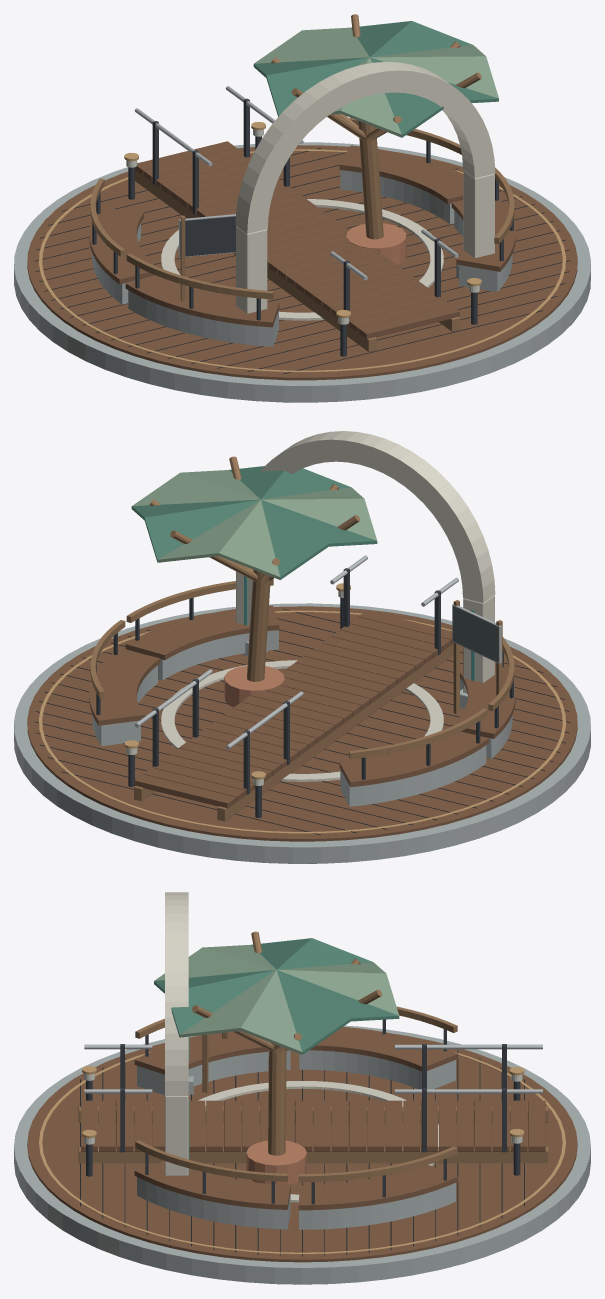
File: fullfilm_v2_scene_block.glb
3 renders of one model, top to bottom at view 1: azimuth 30°, elevation 25°; view 2: azimuth 150°, elevation 25°; view 3: azimuth 270°, elevation 25°, orthographic.
Parts seen in each view (by area): view 1: Plaza_UpperDeck, Bridge_26DeckBoards, Plaza_LowerStoneDisk, Gateway_ArchRib, Plaza_DeckPlankJoints, Bench_02_SeatSlats, Bench_00_SeatSlats, Bench_02_StoneBase, Canopy_FoldedLeaf_05, Bench_03_SeatSlats, Canopy_FoldedLeaf_02, Plaza_InsetOuterBand (+19 smaller); view 2: Plaza_UpperDeck, Bridge_26DeckBoards, Plaza_LowerStoneDisk, Gateway_ArchRib, Plaza_DeckPlankJoints, Canopy_FoldedLeaf_01, Canopy_FoldedLeaf_02, Bench_03_SeatSlats, Bench_00_SeatSlats, Canopy_FoldedLeaf_00, Bench_01_SeatSlats, Bench_03_StoneBase (+18 smaller); view 3: Plaza_UpperDeck, Bridge_26DeckBoards, Plaza_LowerStoneDisk, Gateway_ArchRib, Canopy_FoldedLeaf_05, Bridge_LongitudinalBeam_R, Canopy_FoldedLeaf_00, Bench_00_SeatSlats, Bench_01_SeatSlats, Bench_00_StoneBase, Bench_01_StoneBase, Bench_03_SeatSlats (+19 smaller).
Part boxes in pixels (x1,y1,x2,y2): Plaza_UpperDeck: [27, 145, 577, 380]; Bridge_26DeckBoards: [135, 141, 459, 339]; Plaza_LowerStoneDisk: [14, 142, 590, 402]; Gateway_ArchRib: [235, 62, 495, 233]; Plaza_DeckPlankJoints: [34, 147, 570, 373]; Bench_02_SeatSlats: [125, 275, 279, 327]; Bench_00_SeatSlats: [339, 145, 463, 204]; Bench_02_StoneBase: [128, 290, 278, 346]; Canopy_FoldedLeaf_05: [370, 45, 498, 98]; Bench_03_SeatSlats: [89, 207, 156, 284]; Canopy_FoldedLeaf_02: [253, 57, 369, 116]; Plaza_InsetOuterBand: [39, 149, 565, 372]; Plaza_UpperDeck: [27, 606, 577, 841]; Bridge_26DeckBoards: [134, 610, 453, 808]; Plaza_LowerStoneDisk: [14, 603, 590, 863]; Gateway_ArchRib: [260, 431, 495, 602]; Plaza_DeckPlankJoints: [34, 609, 570, 835]; Canopy_FoldedLeaf_01: [157, 500, 280, 579]; Canopy_FoldedLeaf_02: [261, 500, 377, 579]; Bench_03_SeatSlats: [339, 731, 488, 787]; Bench_00_SeatSlats: [89, 648, 160, 725]; Canopy_FoldedLeaf_00: [131, 499, 260, 561]; Bench_01_SeatSlats: [125, 605, 279, 660]; Bench_03_StoneBase: [340, 745, 486, 806]; Plaza_UpperDeck: [27, 1034, 577, 1262]; Bridge_26DeckBoards: [81, 1100, 545, 1151]; Plaza_LowerStoneDisk: [14, 1025, 590, 1284]; Gateway_ArchRib: [165, 892, 188, 1095]; Canopy_FoldedLeaf_05: [179, 970, 302, 1054]; Bridge_LongitudinalBeam_R: [78, 1147, 548, 1163]; Canopy_FoldedLeaf_00: [276, 970, 399, 1054]; Bench_00_SeatSlats: [298, 1165, 458, 1210]; Bench_01_SeatSlats: [134, 1160, 290, 1209]; Bench_00_StoneBase: [299, 1183, 455, 1229]; Bench_01_StoneBase: [137, 1177, 290, 1229]; Bench_03_SeatSlats: [309, 1027, 458, 1071].
Bounding box in the file's own units: 7.8 × 3.83 × 7.8.
